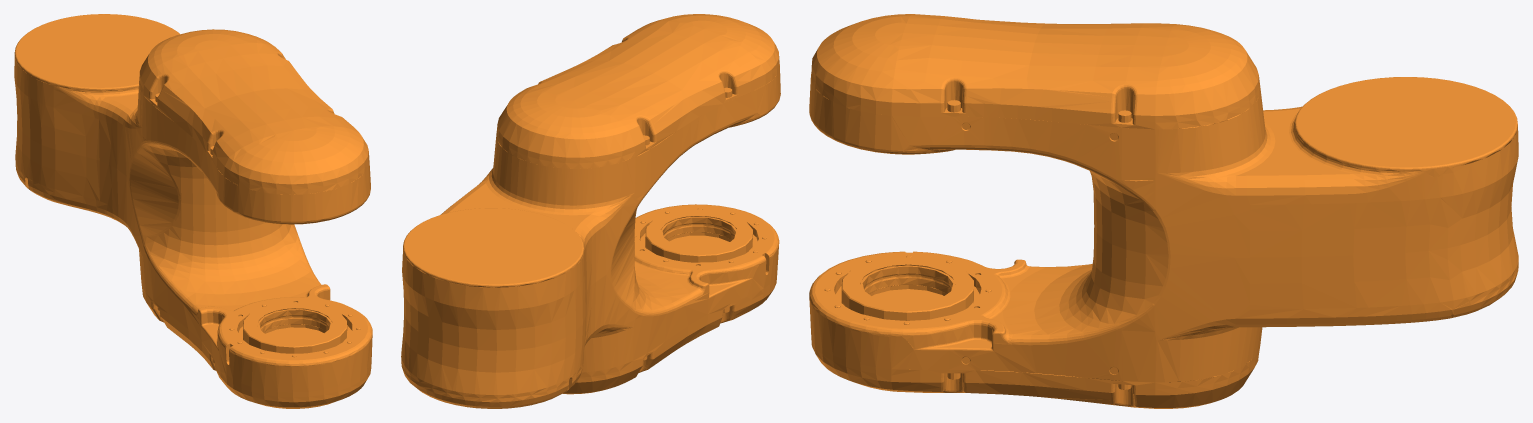
The model's file is xarm7_with_gripper_LR4_R560_link3_visual_vis_1.dae.
3 views of the same model, side by side, from view 1: azimuth 30°, elevation 25°; view 2: azimuth 150°, elevation 25°; view 3: azimuth 270°, elevation 25° (orthographic). The views are drawn at different scales.
Visible parts, largest first — view 1: Node_000001B89B5E4490; view 2: Node_000001B89B5E4490; view 3: Node_000001B89B5E4490.
Boxes of the visible parts, left/top/right/bottom form: Node_000001B89B5E4490: left=14, top=14, right=372, bottom=408; Node_000001B89B5E4490: left=401, top=14, right=780, bottom=408; Node_000001B89B5E4490: left=809, top=14, right=1518, bottom=408.
Bounding box in the file's own units: 0.1243 × 0.1956 × 0.3701.
